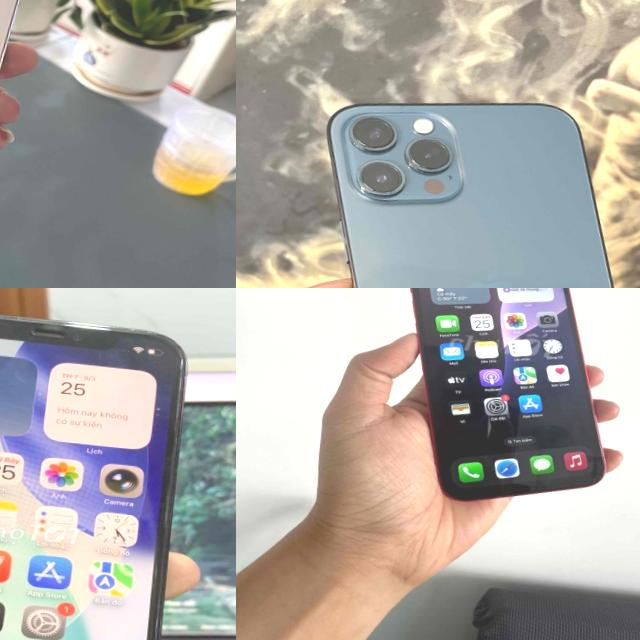gen_12_13: (286, 82, 640, 288), (0, 288, 201, 640)
gen_14: (379, 288, 638, 525)
